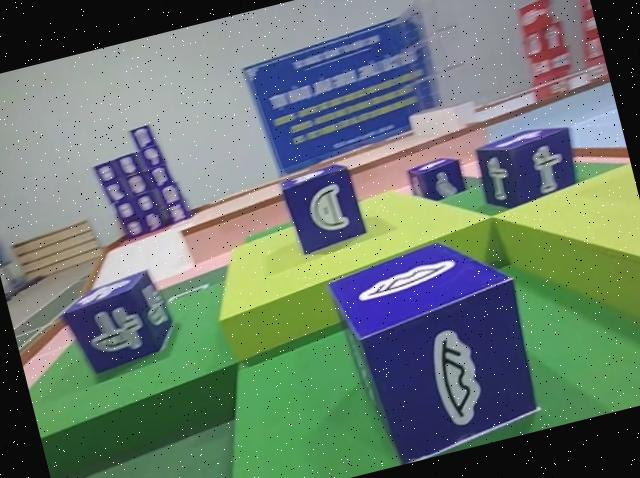R2 Real Blue: (318, 217, 550, 470), (57, 269, 182, 382), (471, 120, 587, 216), (276, 161, 370, 261), (403, 155, 468, 210)
